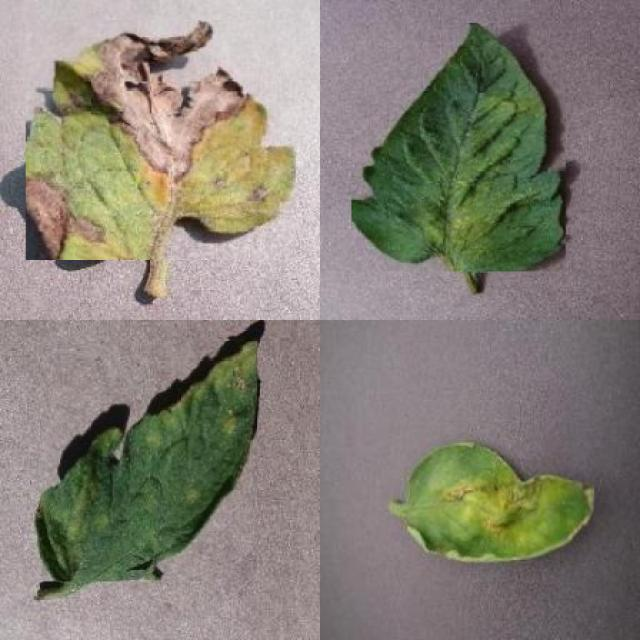Late Blight: (26, 20, 296, 260), (406, 441, 594, 566)
Leaf Mold: (37, 338, 257, 582)
Spider Mites: (352, 23, 565, 271)
